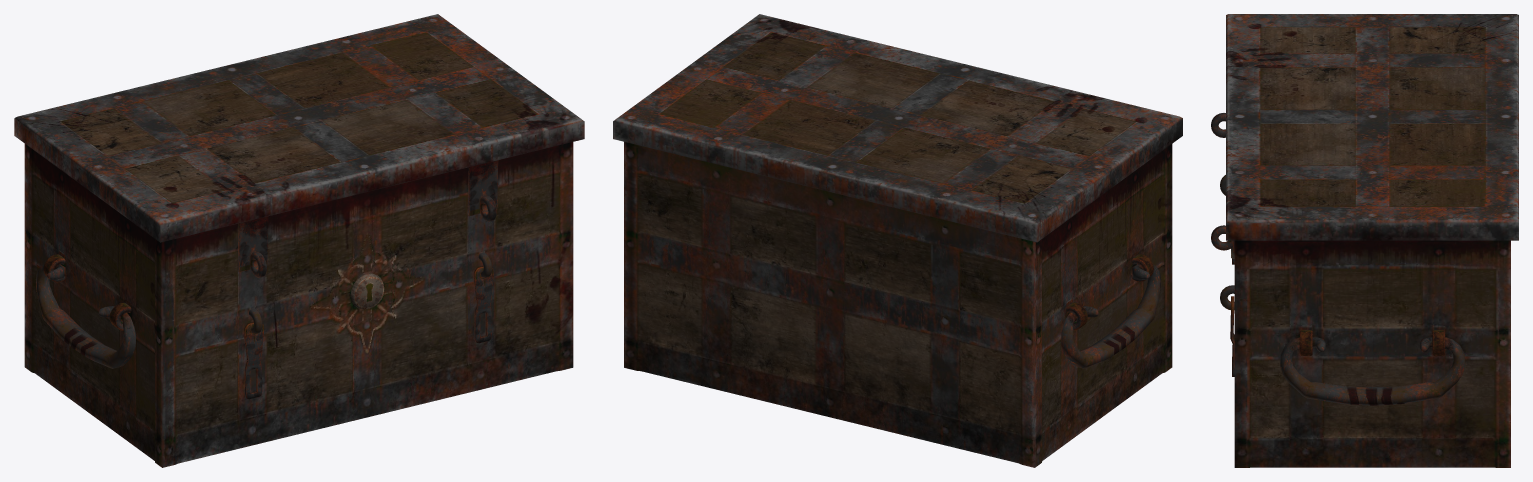
3 views of the same model, side by side, from view 1: azimuth 30°, elevation 25°; view 2: azimuth 150°, elevation 25°; view 3: azimuth 270°, elevation 25° (orthographic).
Parts seen in each view (by area): view 1: TheChest; view 2: TheChest; view 3: TheChest.
Boxes of the visible parts, left/top/right/bottom form: TheChest: left=14, top=14, right=584, bottom=467; TheChest: left=613, top=14, right=1182, bottom=467; TheChest: left=1211, top=14, right=1518, bottom=467.
Size of what is drawn, in the model's own units: 78.87 by 41.63 by 46.37.
1 material, 1 textured.
